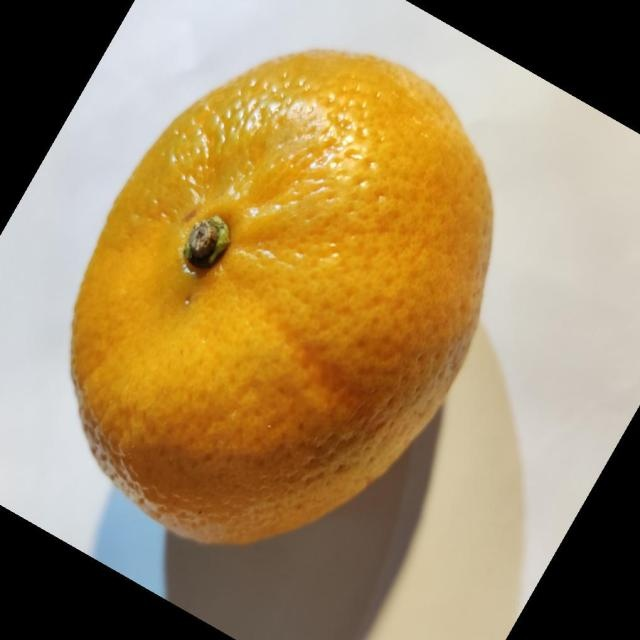agrume: (69, 46, 495, 546)
